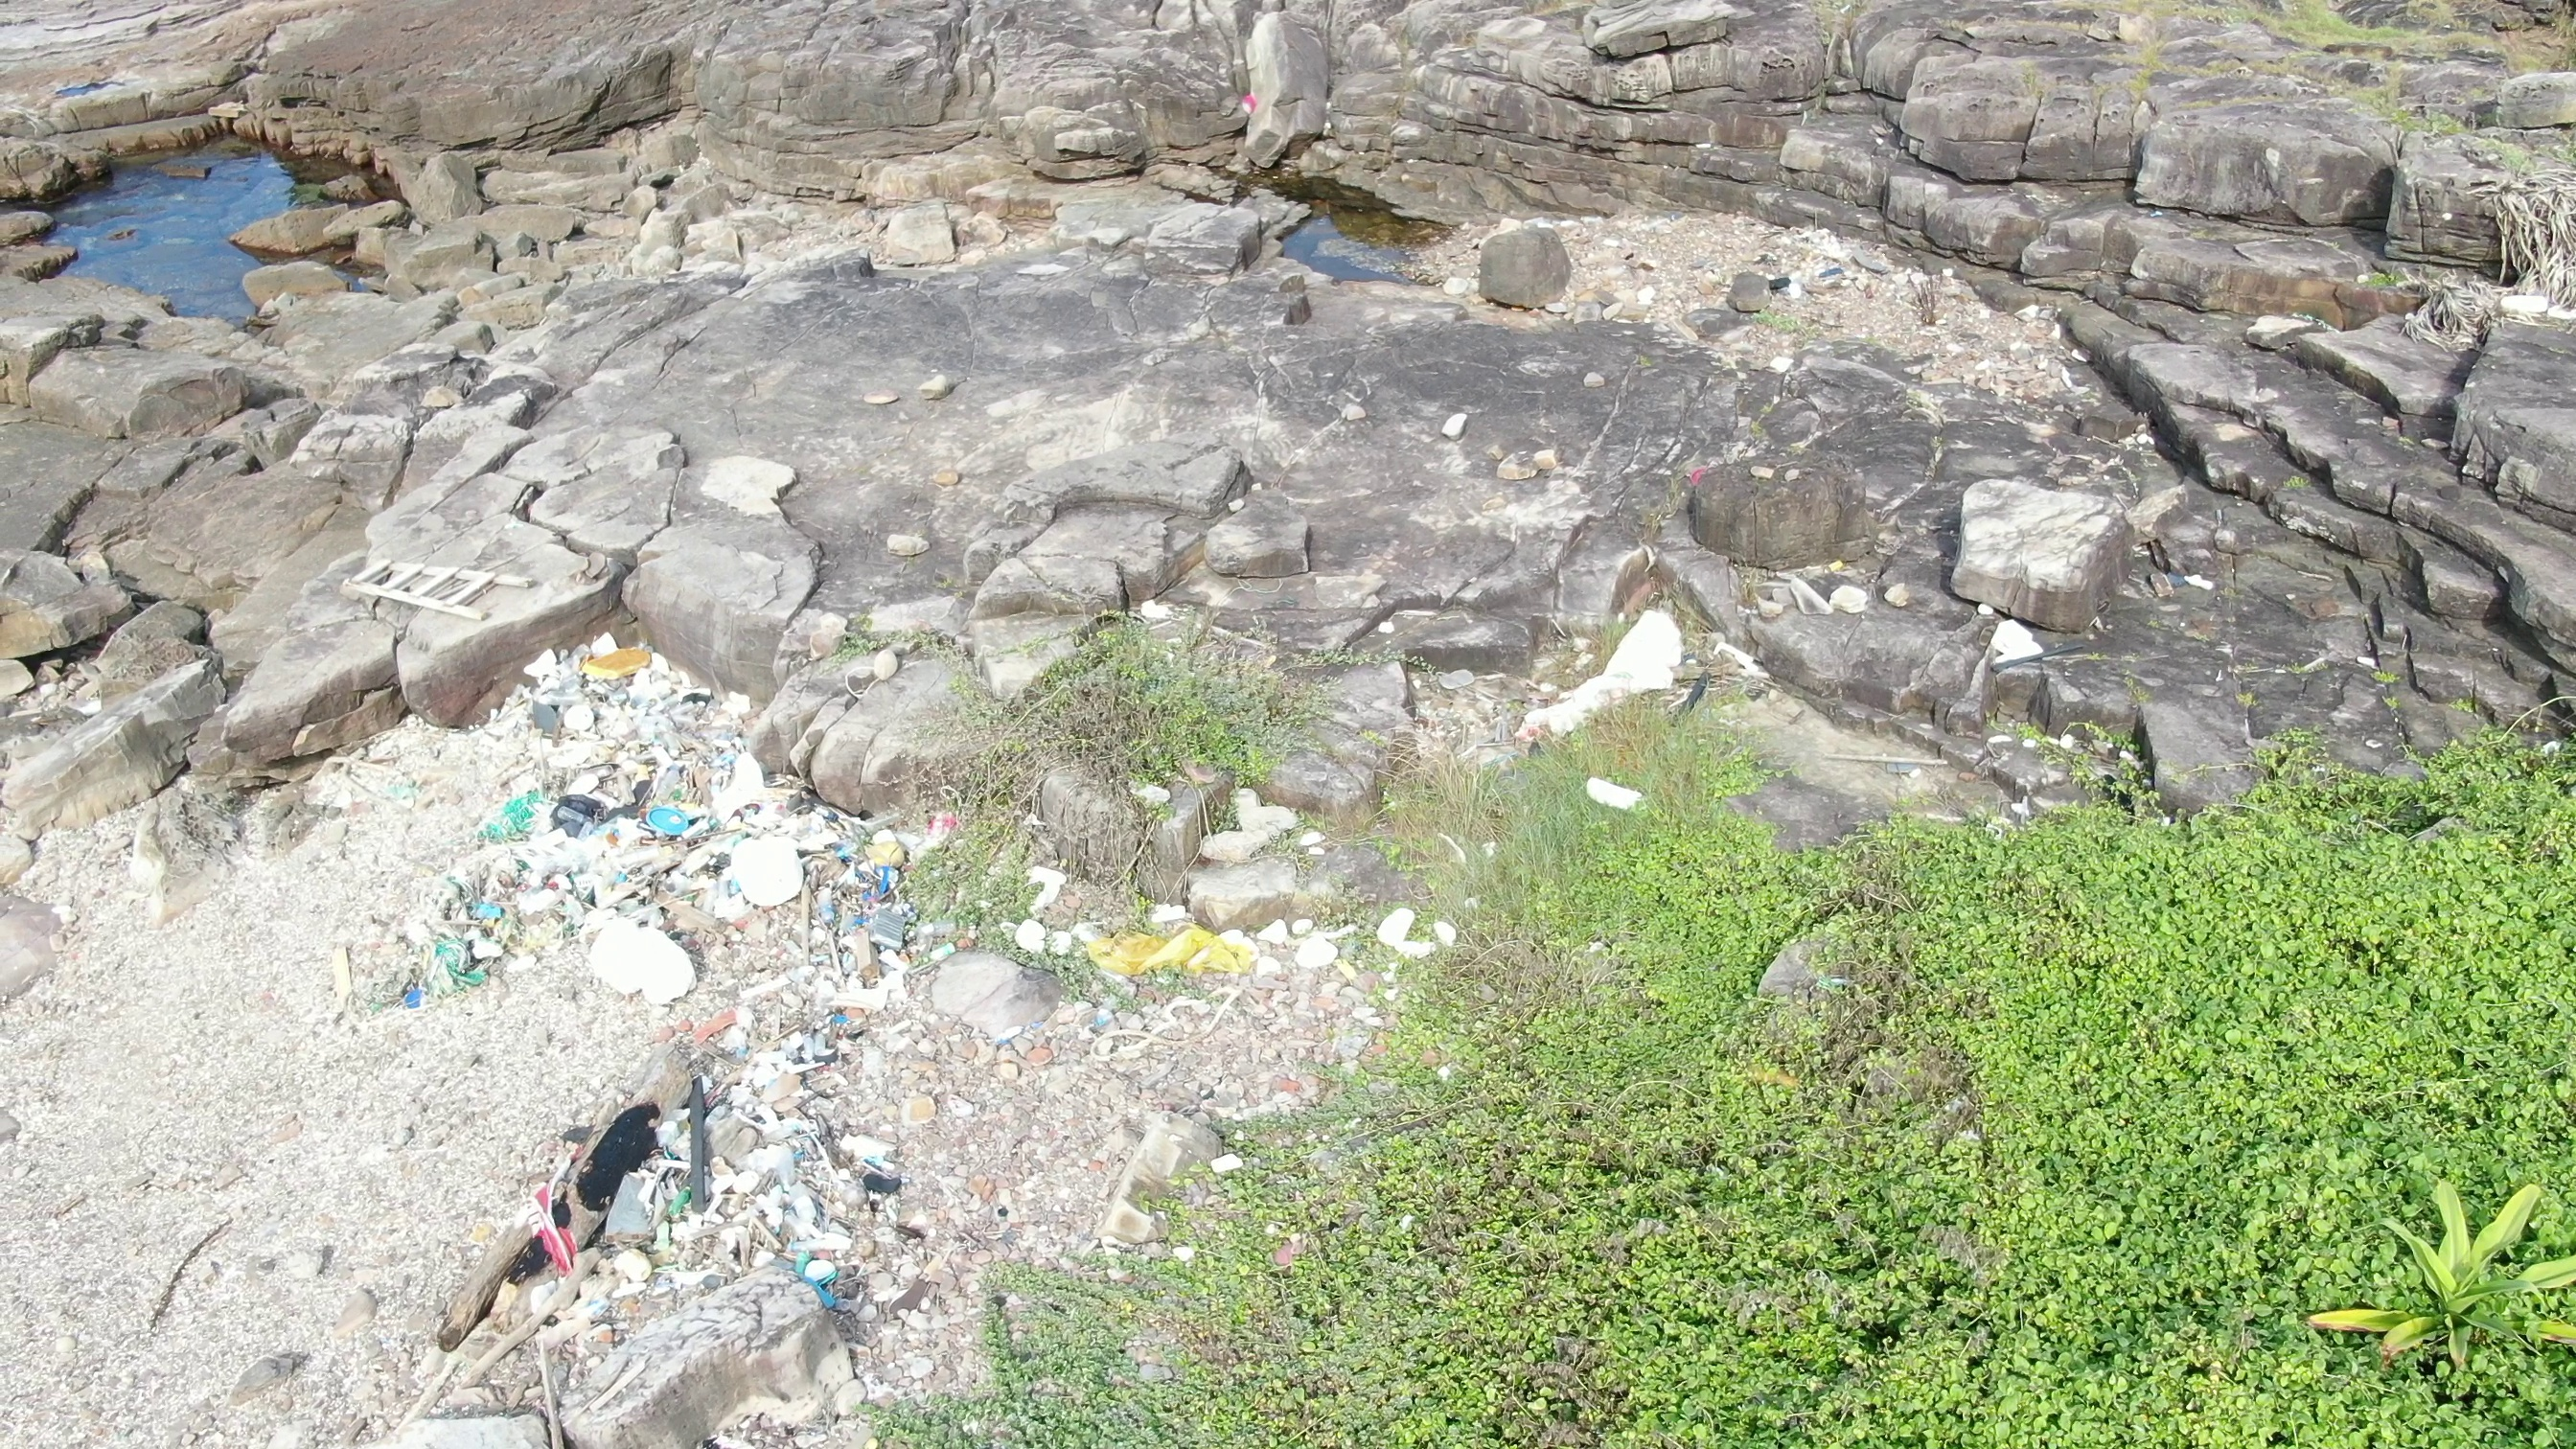garbage: (426, 1019, 916, 1449), (352, 642, 763, 1010), (757, 764, 980, 1014), (1511, 605, 1707, 761), (1077, 913, 1277, 993), (331, 550, 536, 623), (1743, 223, 1904, 308), (1578, 764, 1663, 833), (1231, 88, 1284, 119)
